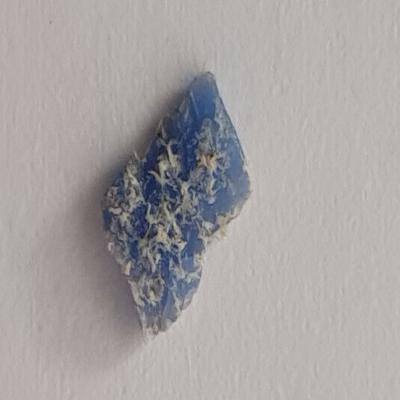plastic: (99, 66, 256, 352)
